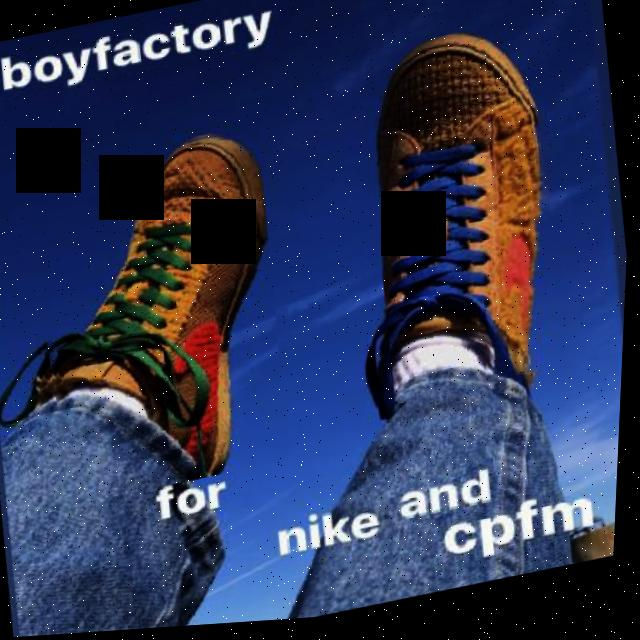shoe: (8, 124, 306, 513), (349, 21, 586, 413)
